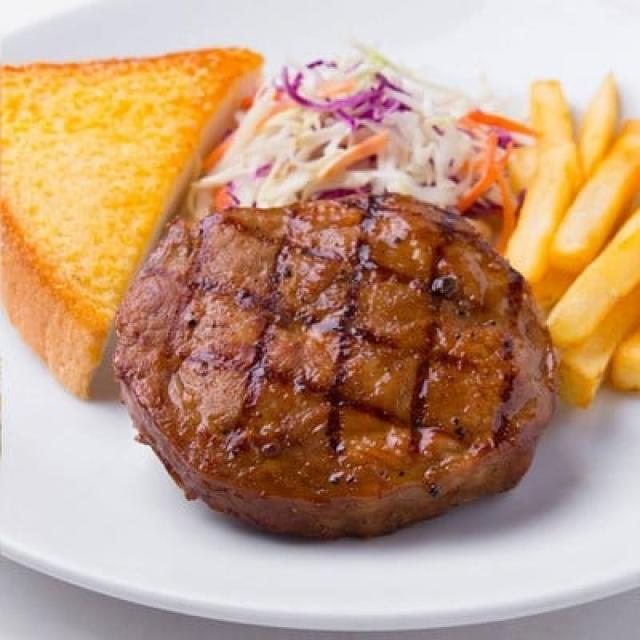Carbohydrate: (0, 48, 264, 396), (497, 74, 640, 414)
Protein: (110, 195, 559, 543)
Steak: (0, 18, 640, 580)
Vegetable: (196, 46, 509, 241)
